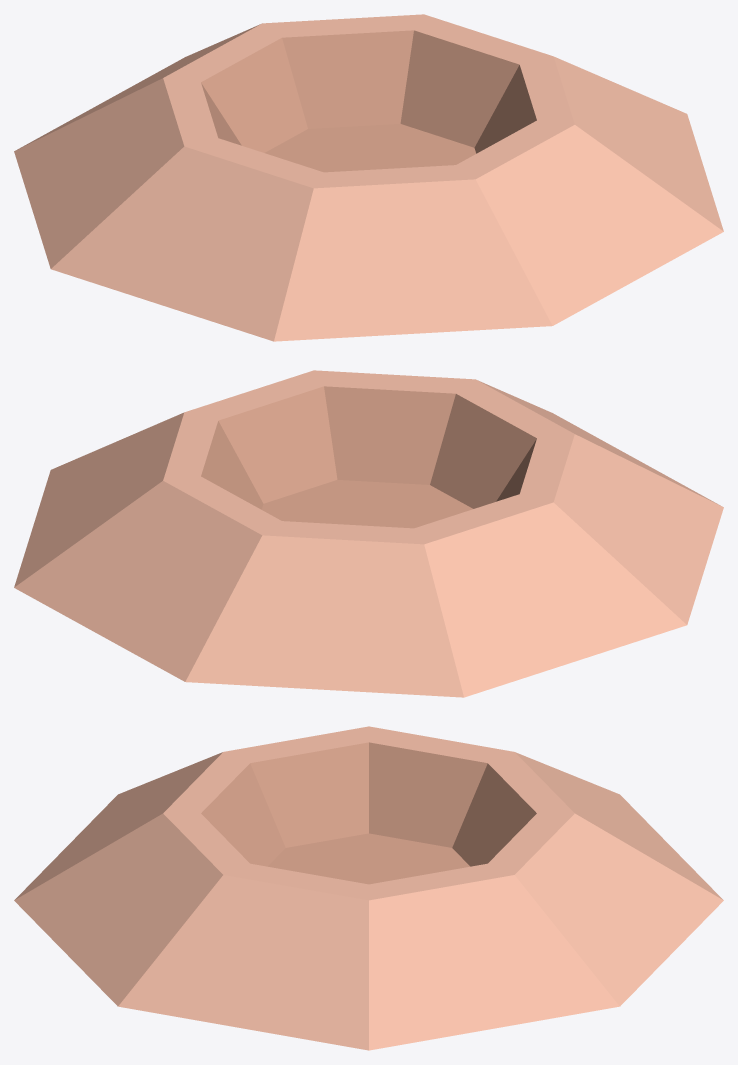
File: craterLarge.glb
3 renders of one model, top to bottom at view 1: azimuth 30°, elevation 25°; view 2: azimuth 150°, elevation 25°; view 3: azimuth 270°, elevation 25°, orthographic. The views are drawn at different scales.
Parts seen in each view (by area): view 1: craterLarge; view 2: craterLarge; view 3: craterLarge.
Boxes of the visible parts, <box> form: craterLarge: <box>14,14,723,341</box>; craterLarge: <box>14,370,723,697</box>; craterLarge: <box>14,726,723,1050</box>.
Bounding box in the file's own units: 0.886 × 0.12 × 0.886.
1 material, 1 textured.
